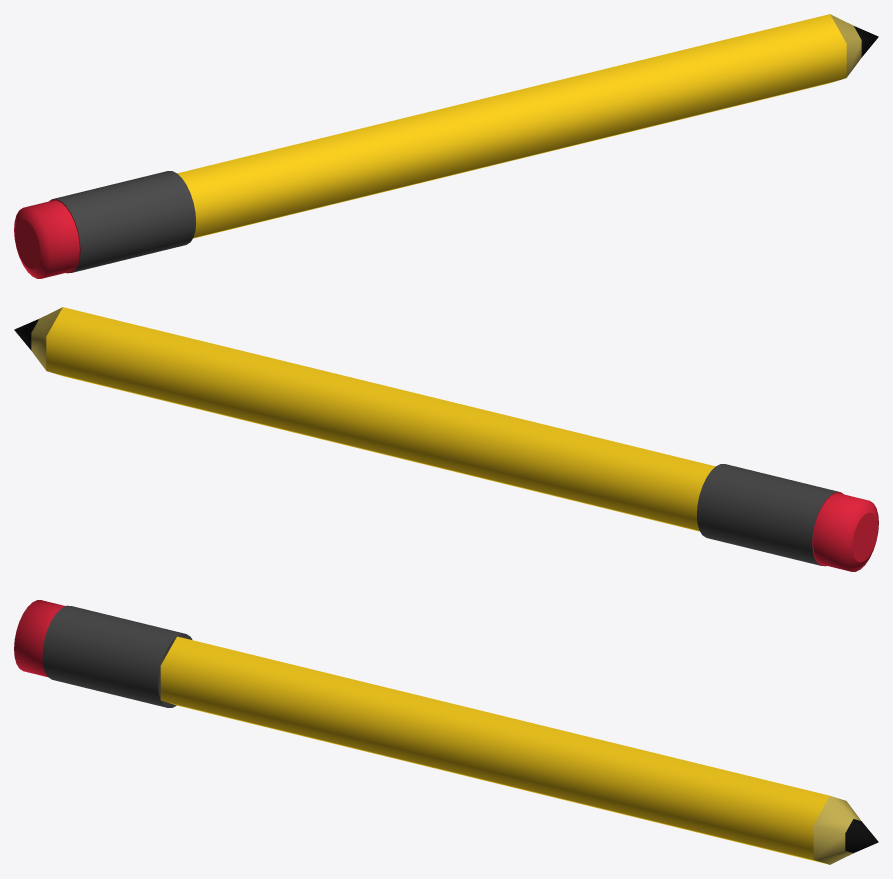
File: Pencil.fbx
3 renders of one model, top to bottom at view 1: azimuth 30°, elevation 25°; view 2: azimuth 150°, elevation 25°; view 3: azimuth 330°, elevation 25°, orthographic.
Visible parts, largest first — view 1: Pencil; view 2: Pencil; view 3: Pencil.
Boxes of the visible parts, x1,y1,x2,y2 form: Pencil: [14, 14, 878, 278]; Pencil: [14, 307, 878, 571]; Pencil: [14, 600, 878, 864].
Size of the model in its own units: 18.03 by 1.4 by 1.4.
